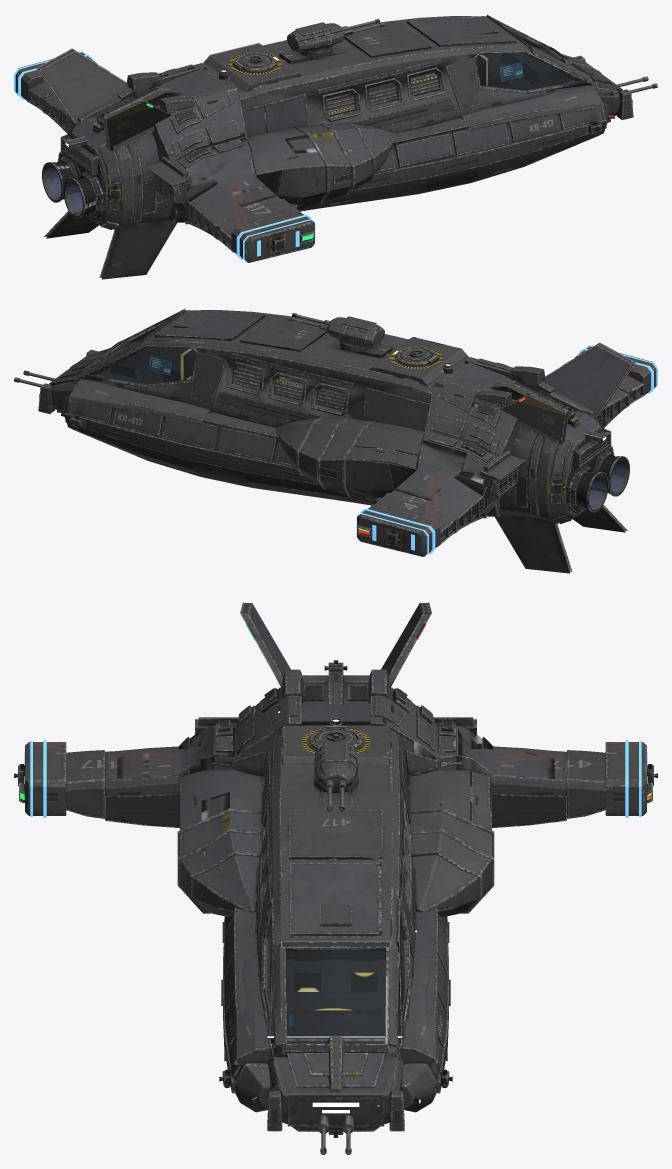
Rendered from spaceship_r15_ship_2k_d.glb.
The picture shows the model from 3 angles, top to bottom: view 1: azimuth 30°, elevation 25°; view 2: azimuth 150°, elevation 25°; view 3: azimuth 270°, elevation 25°; orthographic projection. The views are drawn at different scales.
Visible parts, largest first — view 1: Ship_HullGrey, Ship_HullGreyDark, Ship_TrimDark, Ship_CanopyGlass, Ship_CabinInterior, Ship_GunMetal, Ship_AmberLight, PodGlow_R; view 2: Ship_HullGrey, Ship_HullGreyDark, Ship_TrimDark, Ship_CanopyGlass, Ship_CabinInterior, Ship_GunMetal, Ship_AmberLight, PodGlow_L; view 3: Ship_HullGrey, Ship_HullGreyDark, Ship_CanopyGlass, Ship_TrimDark, Ship_CabinInterior, Ship_AmberLight, Ship_GunMetal.
Part boxes in pixels (x1,y1,x2,y2): Ship_HullGrey: (42, 16, 633, 239); Ship_HullGreyDark: (15, 22, 611, 279); Ship_TrimDark: (32, 14, 593, 242); Ship_CanopyGlass: (475, 31, 572, 90); Ship_CabinInterior: (476, 47, 587, 89); Ship_GunMetal: (43, 19, 657, 253); Ship_AmberLight: (111, 57, 632, 266); PodGlow_R: (236, 214, 315, 262); Ship_HullGrey: (38, 310, 629, 533); Ship_HullGreyDark: (60, 316, 656, 573); Ship_TrimDark: (78, 308, 639, 536); Ship_CanopyGlass: (97, 325, 196, 384); Ship_CabinInterior: (84, 341, 195, 383); Ship_GunMetal: (14, 313, 628, 547); Ship_AmberLight: (39, 335, 560, 560); PodGlow_L: (356, 508, 435, 556); Ship_HullGrey: (105, 672, 566, 1131); Ship_HullGreyDark: (18, 602, 653, 1134); Ship_CanopyGlass: (266, 918, 405, 1043); Ship_TrimDark: (21, 662, 650, 1052); Ship_CabinInterior: (267, 934, 404, 1038); Ship_AmberLight: (47, 624, 624, 1122); Ship_GunMetal: (14, 660, 657, 1154).
Bounding box in the file's own units: 14.49 × 4.24 × 10.31.
9 materials, 6 textured.
